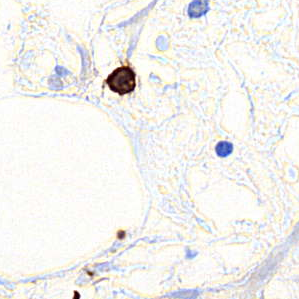Lymphocyte: (106, 66, 139, 95)
